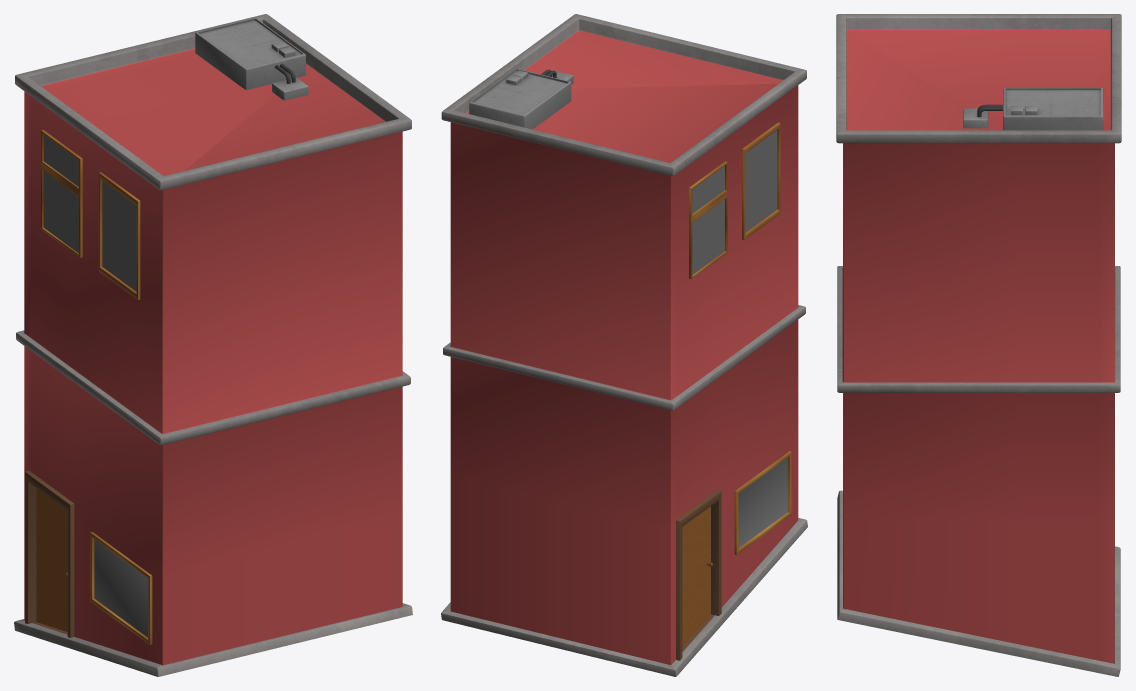
The model's file is Casa torcida 2 Vertical Unity1.fbx.
3 renders of one model, left to right at view 1: azimuth 30°, elevation 25°; view 2: azimuth 150°, elevation 25°; view 3: azimuth 270°, elevation 25°, orthographic. The views are drawn at different scales.
Parts seen in each view (by area): view 1: Cube.005; view 2: Cube.005; view 3: Cube.005.
Part boxes in pixels (x1=…): Cube.005: x1=14, y1=14, x2=412, y2=676; Cube.005: x1=441, y1=14, x2=807, y2=676; Cube.005: x1=836, y1=14, x2=1121, y2=676.
Size of the model in its own units: 1073 by 2267 by 1061.
